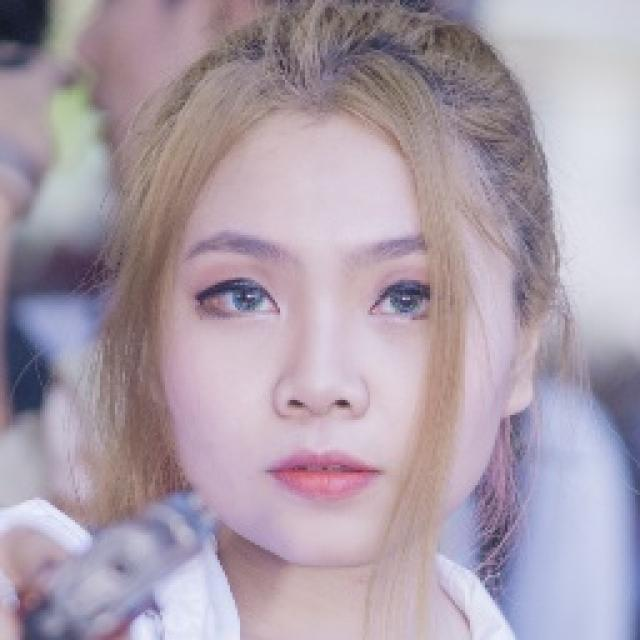earlobe: (504, 378, 537, 418)
eye: (195, 283, 281, 318), (371, 282, 451, 318)
nose: (281, 403, 359, 447)
wholeear: (504, 279, 550, 418)
